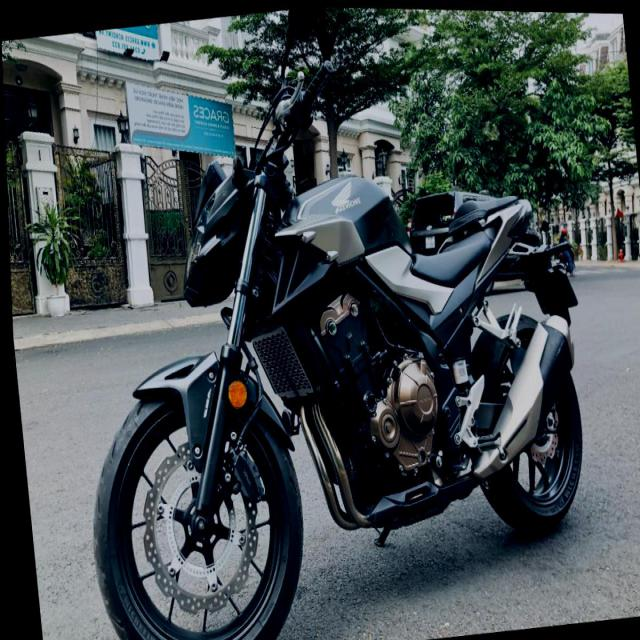CB500F: (53, 111, 600, 639)
